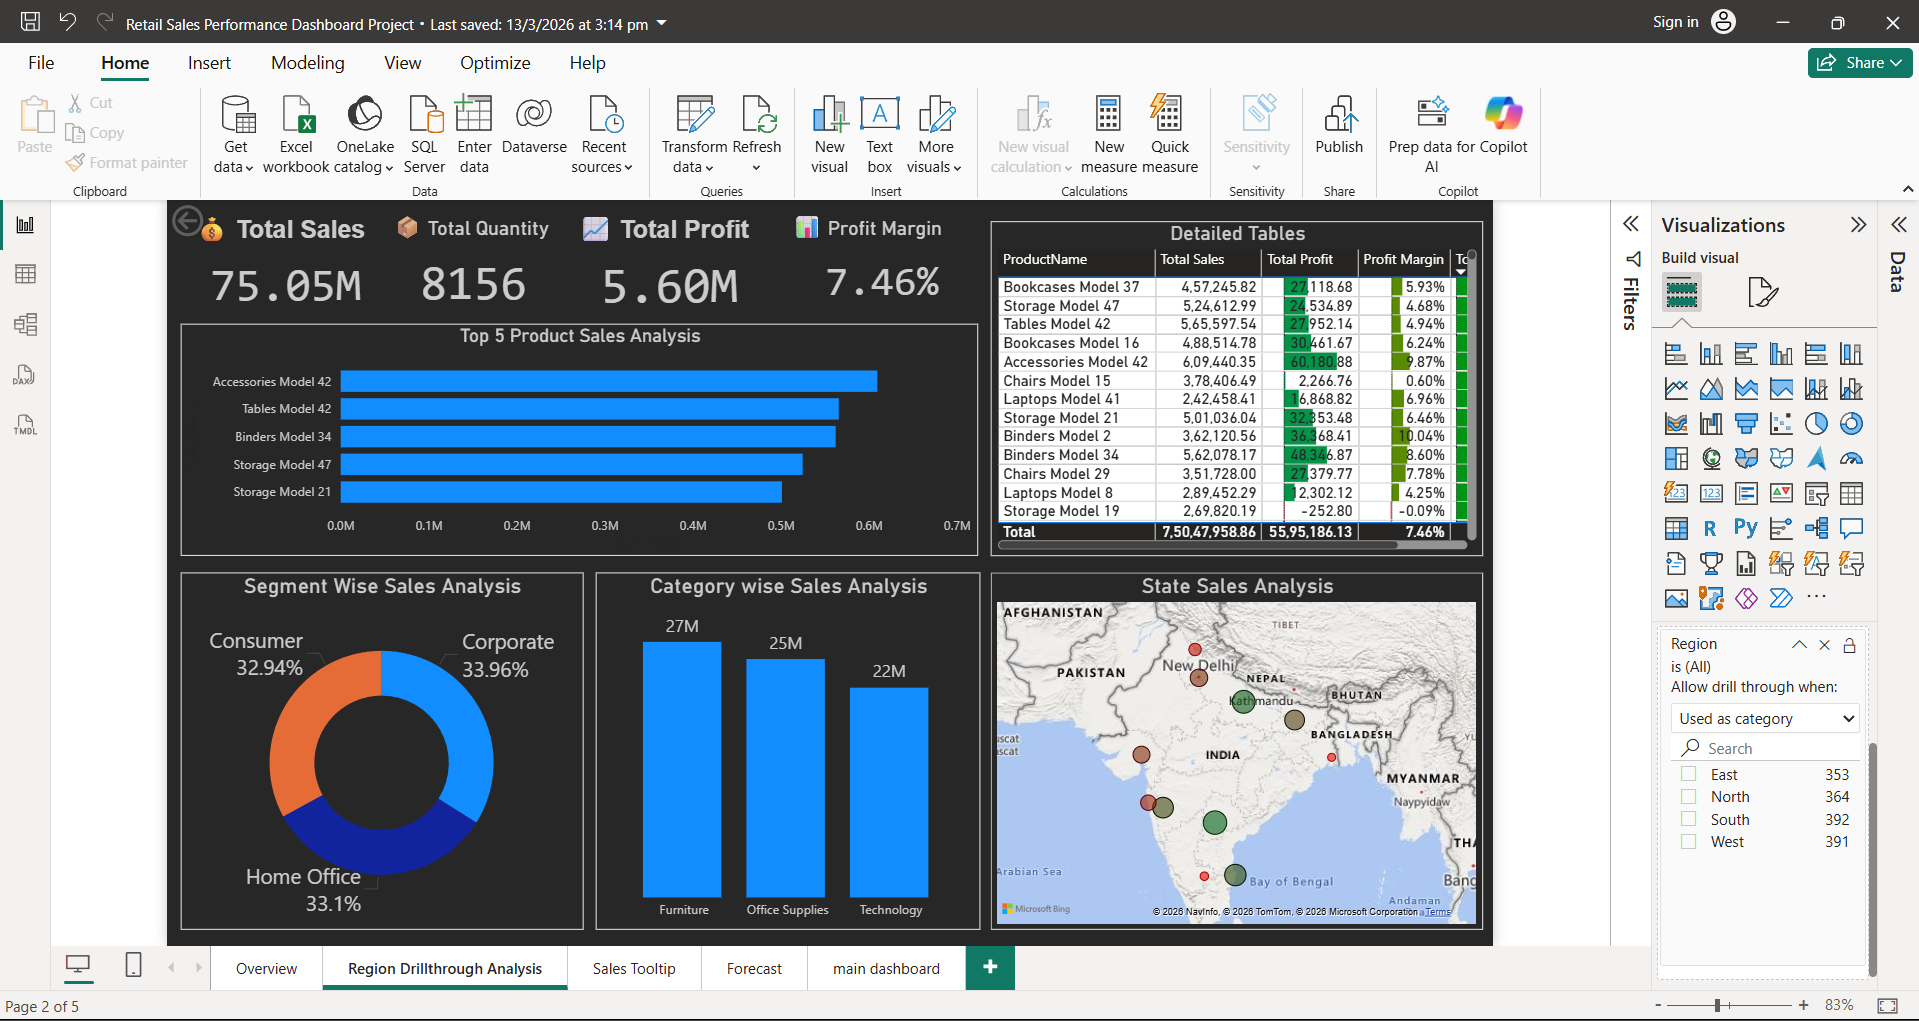

What the dashboard file says about the page in this screenshot:
{"tool":"powerbi","page":{"name":"Region Drillthrough Analysis","canvas":[1280,720],"ordinal":1},"visuals":[{"type":"actionButton","box":[0,0,100,40],"z":0},{"type":"barChart","title":"Top 5 Product Sales Analysis","fields":{"Category":["SALES DATASET.ProductName"],"Y":["Sum(SALES DATASET.Sales)"]},"box":[13.3,119.4,769.7,224.4],"z":1000},{"type":"tableEx","title":"Detailed Tables","fields":{"Values":["SALES DATASET.ProductName","SALES DATASET.Total Sales","SALES DATASET.Total Profit","SALES DATASET.Profit Margin","SALES DATASET.Total Discount"]},"box":[795,20.5,475.3,323.3],"z":2000},{"type":"donutChart","title":"Segment Wise Sales Analysis","fields":{"Category":["SALES DATASET.Segment"],"Y":["SALES DATASET.Total Sales"]},"box":[13.3,359.5,388.5,345],"z":3000},{"type":"card","title":"💰 Total Sales","fields":{"Values":["SALES DATASET.Total Sales"]},"box":[21.7,10.9,185.8,108.6],"z":4000},{"type":"card","title":"📈 Total Profit","fields":{"Values":["SALES DATASET.Total Profit"]},"box":[392.1,10.9,185.8,108.6],"z":5000},{"type":"card","title":"📦 Total Quantity","fields":{"Values":["SALES DATASET.Total Quantity"]},"box":[212.3,10.9,167.7,108.6],"z":6000},{"type":"map","title":"State Sales Analysis","fields":{"Size":["Sum(SALES DATASET.Sales)"],"Category":["SALES DATASET.State"]},"box":[795,359.5,475.3,345],"z":7000},{"type":"card","title":"📊 Profit Margin","fields":{"Values":["SALES DATASET.Profit Margin"]},"box":[598.4,10.9,184.6,108.6],"z":8000},{"type":"columnChart","title":"Category wise Sales Analysis","fields":{"Y":["SALES DATASET.Total Sales"],"Category":["SALES DATASET.Category"]},"box":[413.8,359.5,371.6,345],"z":9000}]}

Visuals, with their boxes on the page's 1280x720 design canvas (x1, y1, x2, y2). These are canvas units, not pixel positions in the 1919x1021 screenshot, which may show the page scaled, cropped or inside an application window:
actionButton: bbox(0, 0, 100, 40)
"Top 5 Product Sales Analysis" barChart: bbox(13, 119, 783, 344)
"Detailed Tables" tableEx: bbox(795, 20, 1270, 344)
"Segment Wise Sales Analysis" donutChart: bbox(13, 360, 402, 704)
"💰 Total Sales" card: bbox(22, 11, 208, 120)
"📈 Total Profit" card: bbox(392, 11, 578, 120)
"📦 Total Quantity" card: bbox(212, 11, 380, 120)
"State Sales Analysis" map: bbox(795, 360, 1270, 704)
"📊 Profit Margin" card: bbox(598, 11, 783, 120)
"Category wise Sales Analysis" columnChart: bbox(414, 360, 785, 704)
